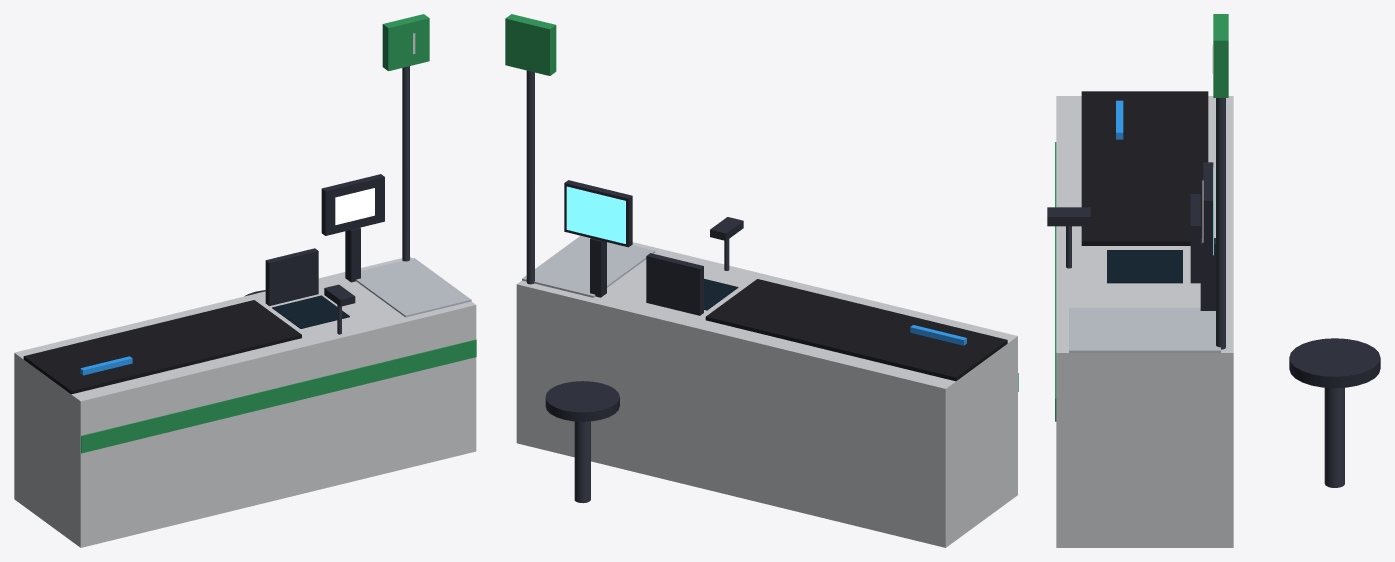
The model's file is mal-017.glb.
3 renders of one model, left to right at view 1: azimuth 30°, elevation 25°; view 2: azimuth 150°, elevation 25°; view 3: azimuth 270°, elevation 25°, orthographic. The views are drawn at different scales.
Visible parts, largest first — view 1: white, conveyor_belt, brand_grocery, plastic_dark, stainless, dark_steel, monitor_screen, display_white; view 2: white, conveyor_belt, plastic_dark, stainless, dark_steel, brand_grocery, pump_screen, monitor_screen; view 3: white, conveyor_belt, plastic_dark, stainless, dark_steel, monitor_screen, brand_grocery.
Part boxes in pixels (box(x1,y1,x2,y2)): white: box(14, 33, 476, 547); conveyor_belt: box(23, 300, 301, 394); brand_grocery: box(81, 14, 476, 453); plastic_dark: box(244, 174, 384, 306); stainless: box(356, 258, 471, 317); dark_steel: box(337, 66, 409, 334); monitor_screen: box(272, 295, 349, 328); display_white: box(335, 188, 374, 224); white: box(516, 242, 1017, 547); conveyor_belt: box(705, 279, 1007, 381); plastic_dark: box(545, 180, 743, 421); stainless: box(522, 235, 655, 297); dark_steel: box(526, 70, 729, 503); brand_grocery: box(505, 14, 1018, 391); pump_screen: box(566, 186, 625, 243); monitor_screen: box(704, 278, 738, 310); white: box(1056, 45, 1233, 547); conveyor_belt: box(1081, 91, 1208, 245); plastic_dark: box(1047, 162, 1380, 388); stainless: box(1069, 307, 1220, 352); dark_steel: box(1066, 98, 1344, 487); monitor_screen: box(1107, 250, 1182, 283); brand_grocery: box(1055, 14, 1228, 421).
Bounding box in the file's own units: 2.47 × 2.24 × 1.32.
